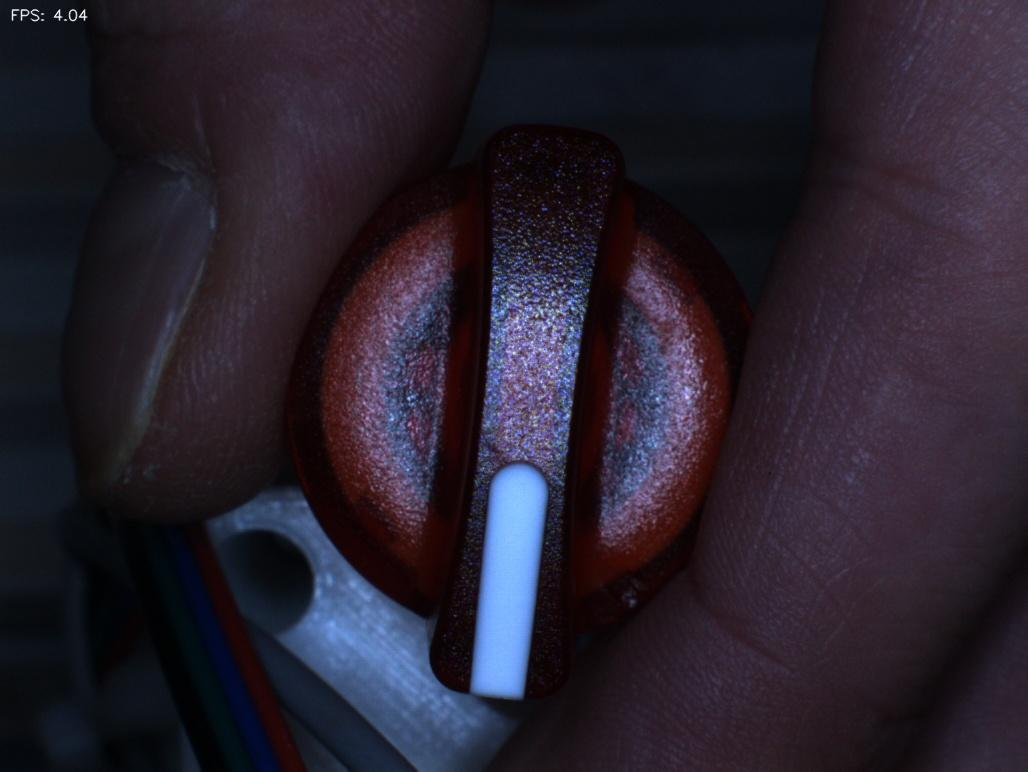Choc: (586, 554, 663, 637)
